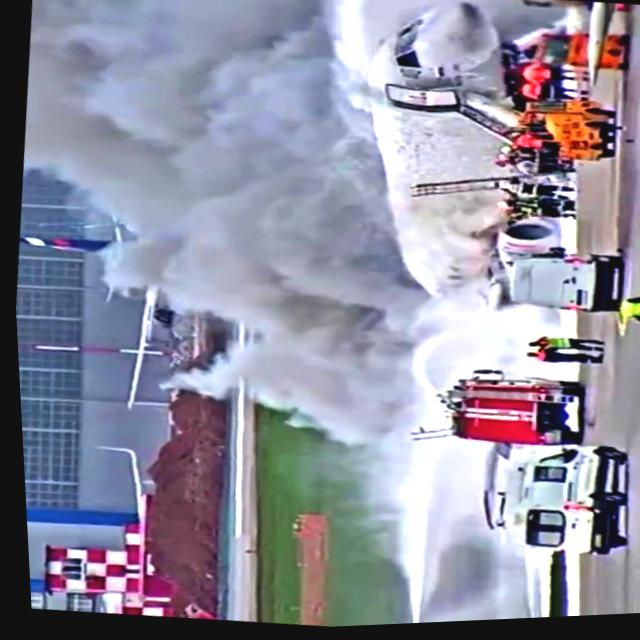smoke: (81, 161, 396, 432), (13, 0, 324, 209)
